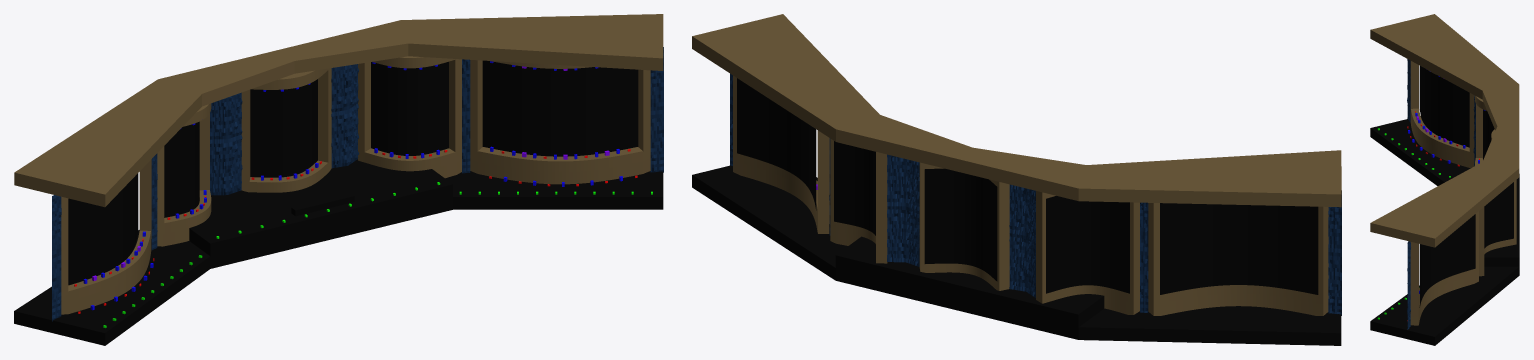
File: giallovision_stage.glb
3 renders of one model, left to right at view 1: azimuth 30°, elevation 25°; view 2: azimuth 150°, elevation 25°; view 3: azimuth 270°, elevation 25°, orthographic. The views are drawn at different scales.
Parts seen in each view (by area): view 1: Header, Deck_C, LED_Wing_SL, Scenic_Wing_SL, Deck_Wing_SR, Deck_Wing_SL, LED_C, LED_Wing_SR, LED_SL.003, LED_SL.001, Scenic_SL, Scenic_Wing_SR (+11 smaller); view 2: Header, LED_Wing_SR, Deck_C, Deck_Wing_SR, LED_SR, LED_C, Deck_Wing_SL, Scenic_Wing_SR, LED_Wing_SL, Scenic_Geo_SL, Scenic_Wing_SL, Scenic_SR (+6 smaller); view 3: Header, Deck_Wing_SL, LED_Wing_SR, LED_Wing_SL, Deck_Wing_SR, Scenic_Wing_SR, Scenic_Wing_SL, LED_SL, Deck_C, Scenic_SL, Scenic_SR, LED_SR (+4 smaller).
Part boxes in pixels (left/top/right/bottom): Header: left=14, top=14, right=663, bottom=207; Deck_C: left=189, top=159, right=452, bottom=268; LED_Wing_SL: left=482, top=60, right=638, bottom=156; Scenic_Wing_SL: left=470, top=60, right=650, bottom=184; Deck_Wing_SR: left=14, top=230, right=210, bottom=345; Deck_Wing_SL: left=445, top=171, right=663, bottom=209; LED_C: left=250, top=79, right=317, bottom=177; LED_Wing_SR: left=68, top=173, right=138, bottom=285; LED_SL.003: left=371, top=62, right=448, bottom=155; LED_SL.001: left=371, top=63, right=448, bottom=155; Scenic_SL: left=358, top=56, right=461, bottom=178; Scenic_Wing_SR: left=61, top=159, right=151, bottom=314; Header: left=692, top=14, right=1341, bottom=207; LED_Wing_SR: left=1160, top=203, right=1318, bottom=294; Deck_C: left=835, top=236, right=1104, bottom=339; Deck_Wing_SR: left=1078, top=306, right=1341, bottom=345; LED_SR: left=1046, top=196, right=1129, bottom=293; LED_C: left=924, top=168, right=997, bottom=281; Deck_Wing_SL: left=692, top=165, right=847, bottom=280; Scenic_Wing_SR: left=1148, top=203, right=1328, bottom=315; LED_Wing_SL: left=737, top=78, right=816, bottom=210; Scenic_Geo_SL: left=887, top=154, right=919, bottom=266; Scenic_Wing_SL: left=733, top=75, right=829, bottom=233; Scenic_SR: left=1036, top=191, right=1139, bottom=314; Header: left=1370, top=14, right=1519, bottom=247; Deck_Wing_SL: left=1370, top=266, right=1519, bottom=345; LED_Wing_SR: left=1419, top=66, right=1469, bottom=147; LED_Wing_SL: left=1419, top=214, right=1475, bottom=307; Deck_Wing_SR: left=1370, top=116, right=1470, bottom=185; Scenic_Wing_SR: left=1410, top=61, right=1474, bottom=167; Scenic_Wing_SL: left=1410, top=211, right=1478, bottom=325; LED_SL: left=1484, top=182, right=1513, bottom=248; Deck_C: left=1445, top=173, right=1519, bottom=266; Scenic_SL: left=1479, top=180, right=1516, bottom=276; Scenic_SR: left=1474, top=95, right=1486, bottom=165; LED_SR: left=1483, top=109, right=1494, bottom=159.
Size of the model in its own units: 107 by 23.82 by 30.
